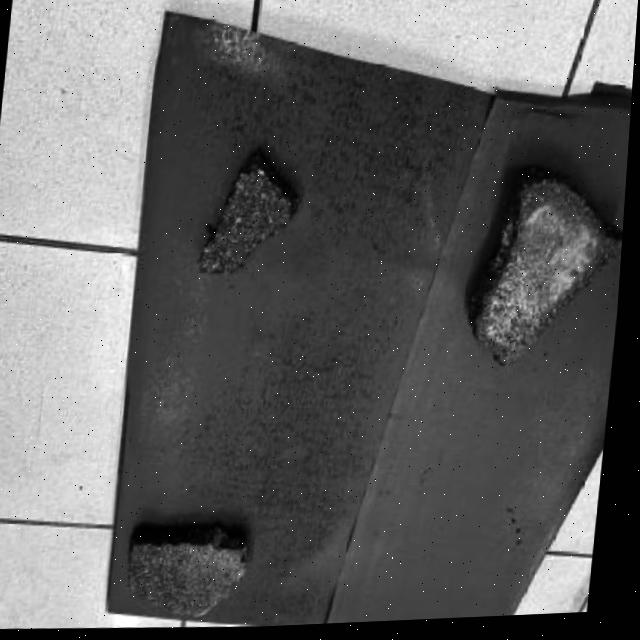Road Debris: (194, 153, 301, 289), (130, 524, 262, 622), (479, 247, 561, 362)
